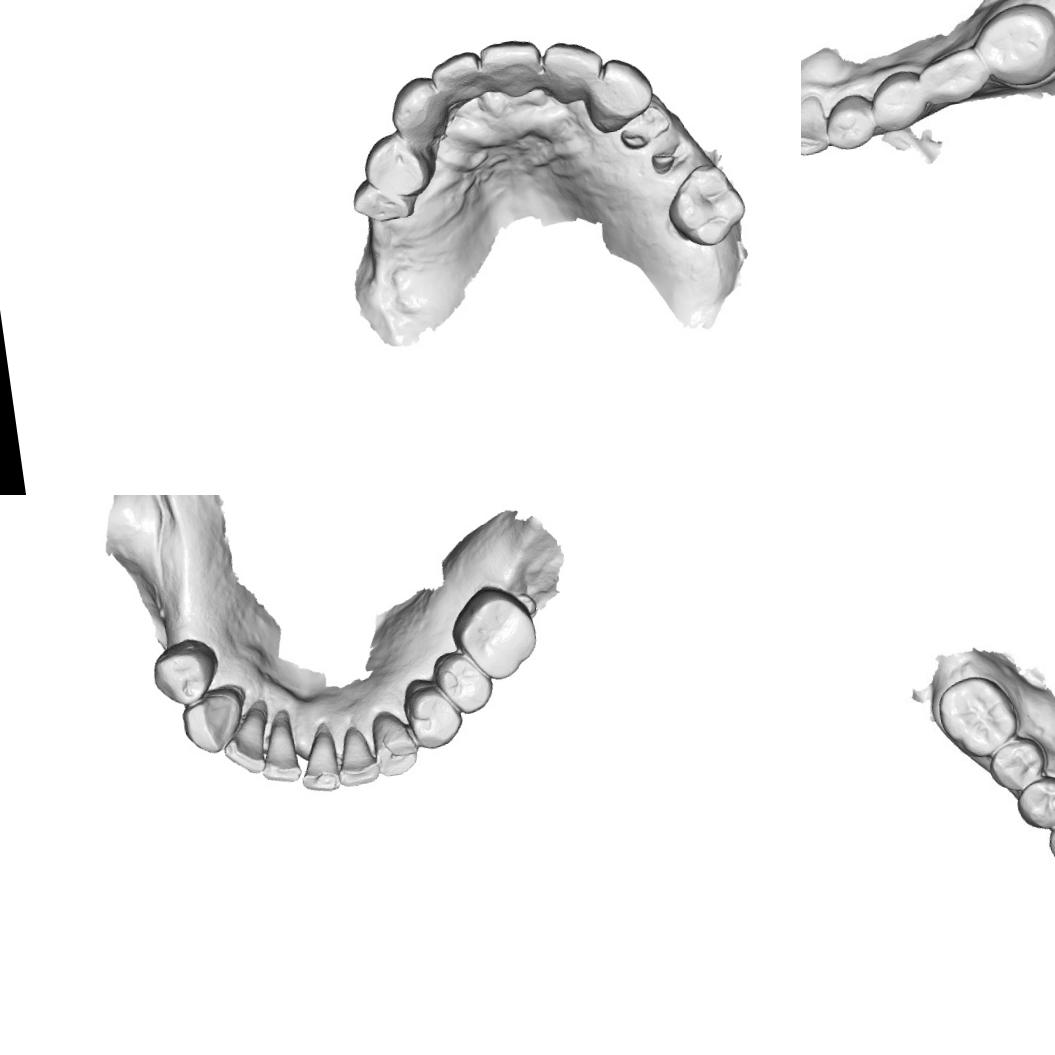canine: (582, 52, 660, 138), (174, 685, 248, 759), (384, 71, 452, 151), (370, 707, 422, 782), (801, 95, 832, 159)
incisor: (536, 26, 614, 119), (474, 27, 548, 105), (426, 43, 500, 118), (217, 706, 272, 780), (250, 715, 304, 788), (294, 721, 344, 798), (330, 723, 384, 792)
molar: (443, 576, 544, 686), (664, 156, 751, 255), (971, 0, 1055, 91), (938, 678, 1017, 759)
premolar: (144, 634, 226, 712), (358, 127, 435, 204), (398, 672, 466, 754), (866, 63, 935, 138), (429, 645, 496, 720), (918, 48, 988, 106), (824, 92, 883, 154), (990, 738, 1046, 790), (1017, 777, 1055, 832)
